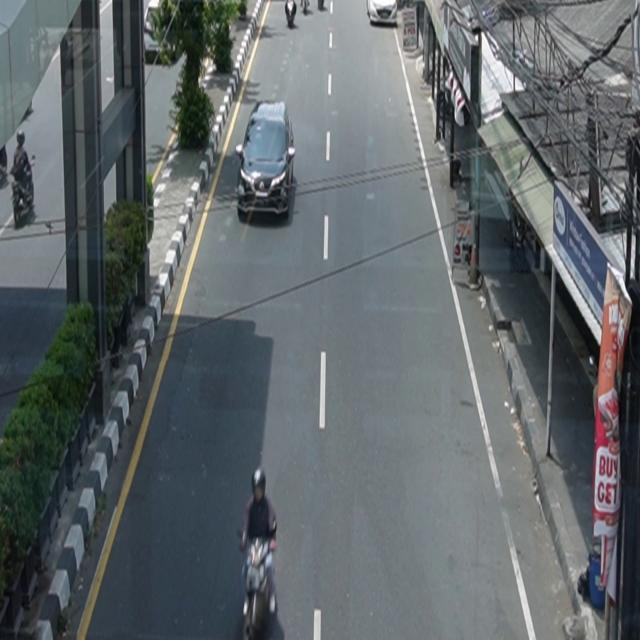car: (236, 100, 296, 218), (367, 1, 398, 26)
